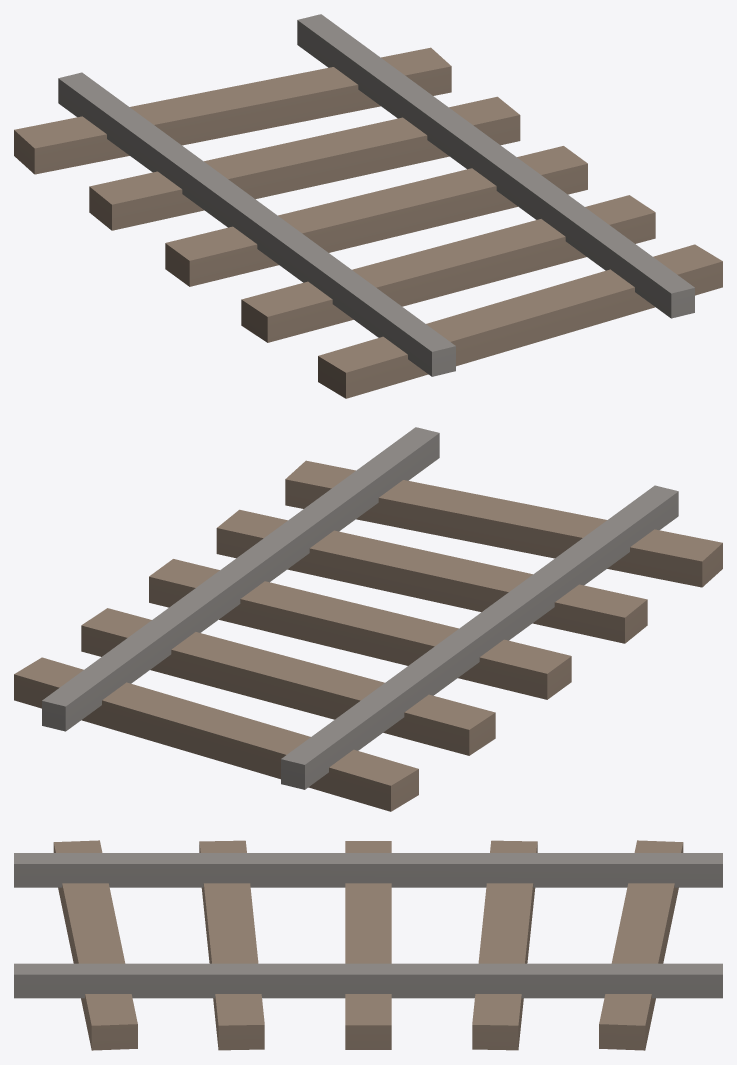
File: BM_RailBroken.glb
3 views of the same model, one above another, from view 1: azimuth 30°, elevation 25°; view 2: azimuth 150°, elevation 25°; view 3: azimuth 270°, elevation 25° (orthographic). The views are drawn at different scales.
Visible parts, largest first — view 1: Body; view 2: Body; view 3: Body.
Boxes of the visible parts, box(x1,y1,x2,y2) form: Body: box(14, 14, 722, 398); Body: box(14, 427, 722, 811); Body: box(14, 840, 722, 1050).
Size of the model in its own units: 8.04 by 0.89 by 13.
